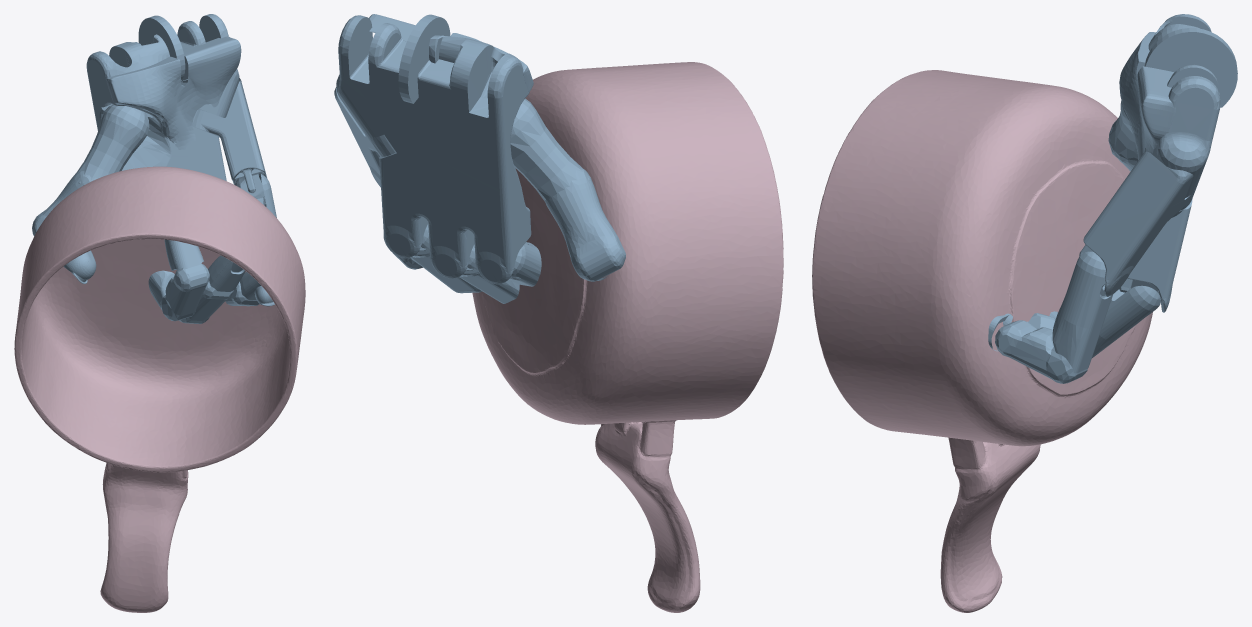
The picture shows the model from 3 angles, left to right: view 1: azimuth 30°, elevation 25°; view 2: azimuth 150°, elevation 25°; view 3: azimuth 270°, elevation 25°; orthographic projection. The views are drawn at different scales.
Parts seen in each view (by area): view 1: obj_mesh_grasp_5.obj, world; view 2: obj_mesh_grasp_5.obj, world; view 3: obj_mesh_grasp_5.obj, world.
Part boxes in pixels (box(x1,y1,x2,y2)): obj_mesh_grasp_5.obj: box(14, 166, 305, 612); world: box(32, 14, 276, 324); obj_mesh_grasp_5.obj: box(472, 62, 783, 612); world: box(334, 14, 625, 303); obj_mesh_grasp_5.obj: box(812, 70, 1152, 612); world: box(988, 14, 1237, 383).
Bounding box in the file's own units: 0.1791 × 0.2963 × 0.1777.
